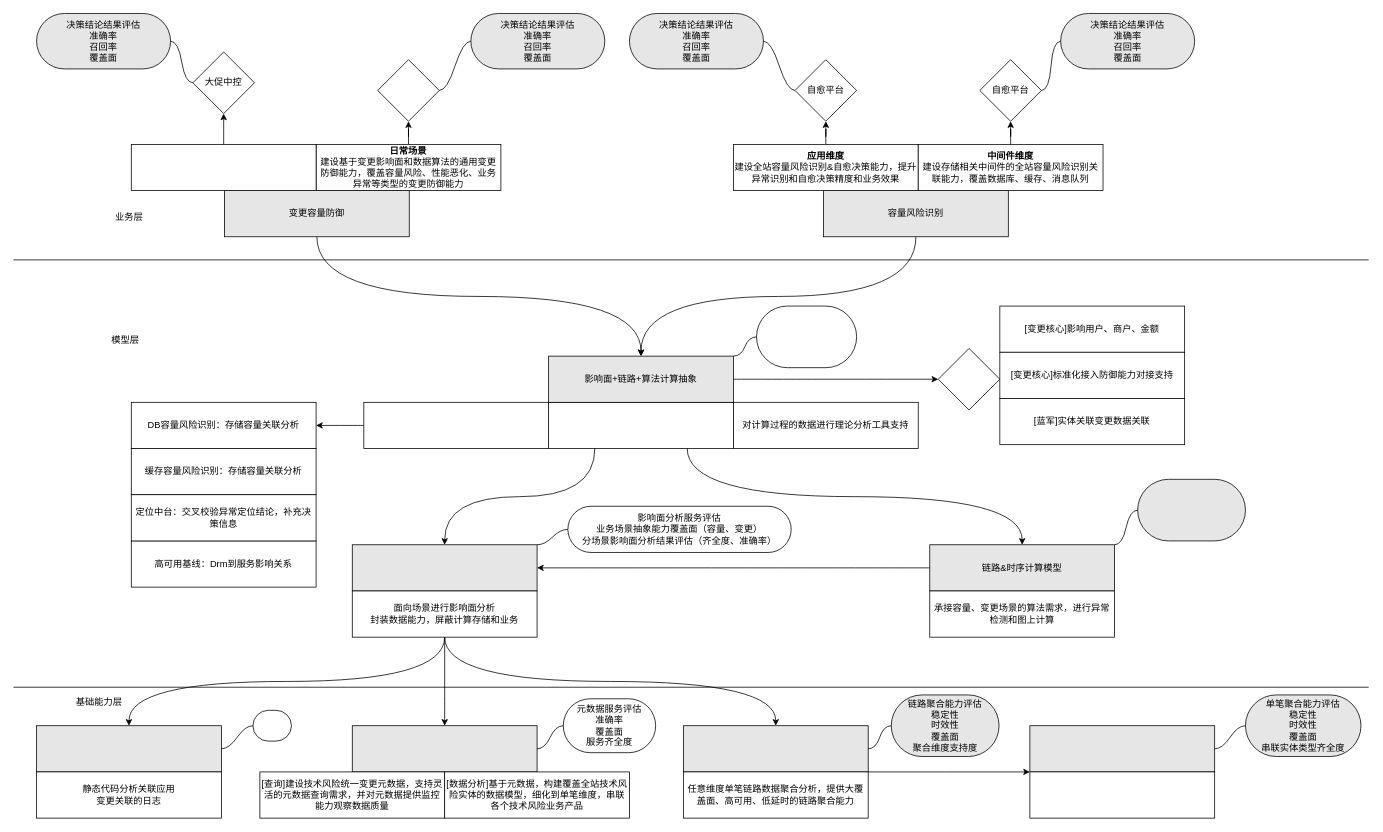
Some shapes in this 1383 by 832 pixel diagram are drawn without their labels. Here are the shapes that lost their labels. From the top down, the box of each, then its label:
(377, 59, 439, 121): 变更核心
(131, 144, 316, 191): 大促弹性/日常弹性 变更容量防御能力建设，支持日常和大促的变更防御
(756, 305, 857, 368): 拓扑+算法计算层 稳定性 时效性 计算覆盖面 工具丰富度
(937, 348, 1000, 410): 变更影响面
(363, 402, 549, 449): 对接外部数据源 作为上层聚合决策的支撑服务
(548, 402, 733, 449): 对计算进行抽象建模
(1137, 479, 1245, 541): 算法能力评估 稳定性 时效性 算法丰富度 计算数据源覆盖面
(352, 544, 537, 591): 影响面分析
(36, 725, 221, 772): 代码分析
(352, 725, 537, 772): 元数据
(683, 725, 868, 772): 链路聚合
(1029, 725, 1215, 772): 单笔链路
(1029, 771, 1215, 818): 单笔数据模型刻画，包括业务发生时间、业务标识、途径节点(含调用顺序/耗时/异常信息)、数据(DB/业务日志)、服务调用的参数/返回，数据模型自我度量
